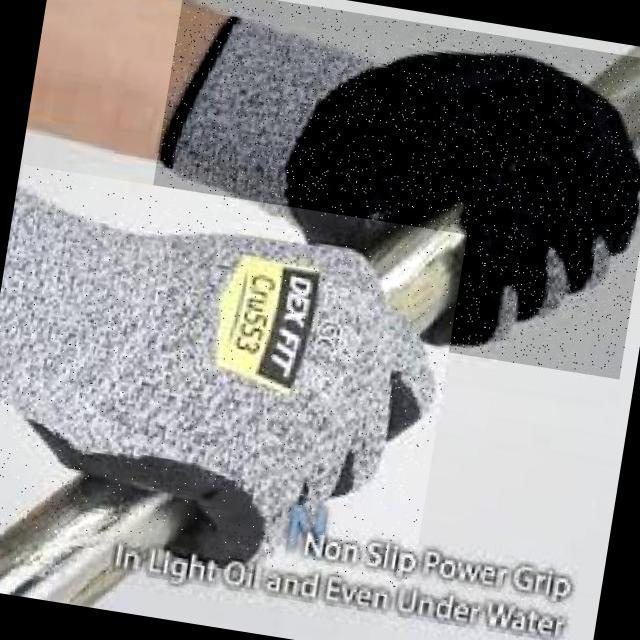Gloves: (0, 164, 467, 589), (134, 0, 640, 379)
